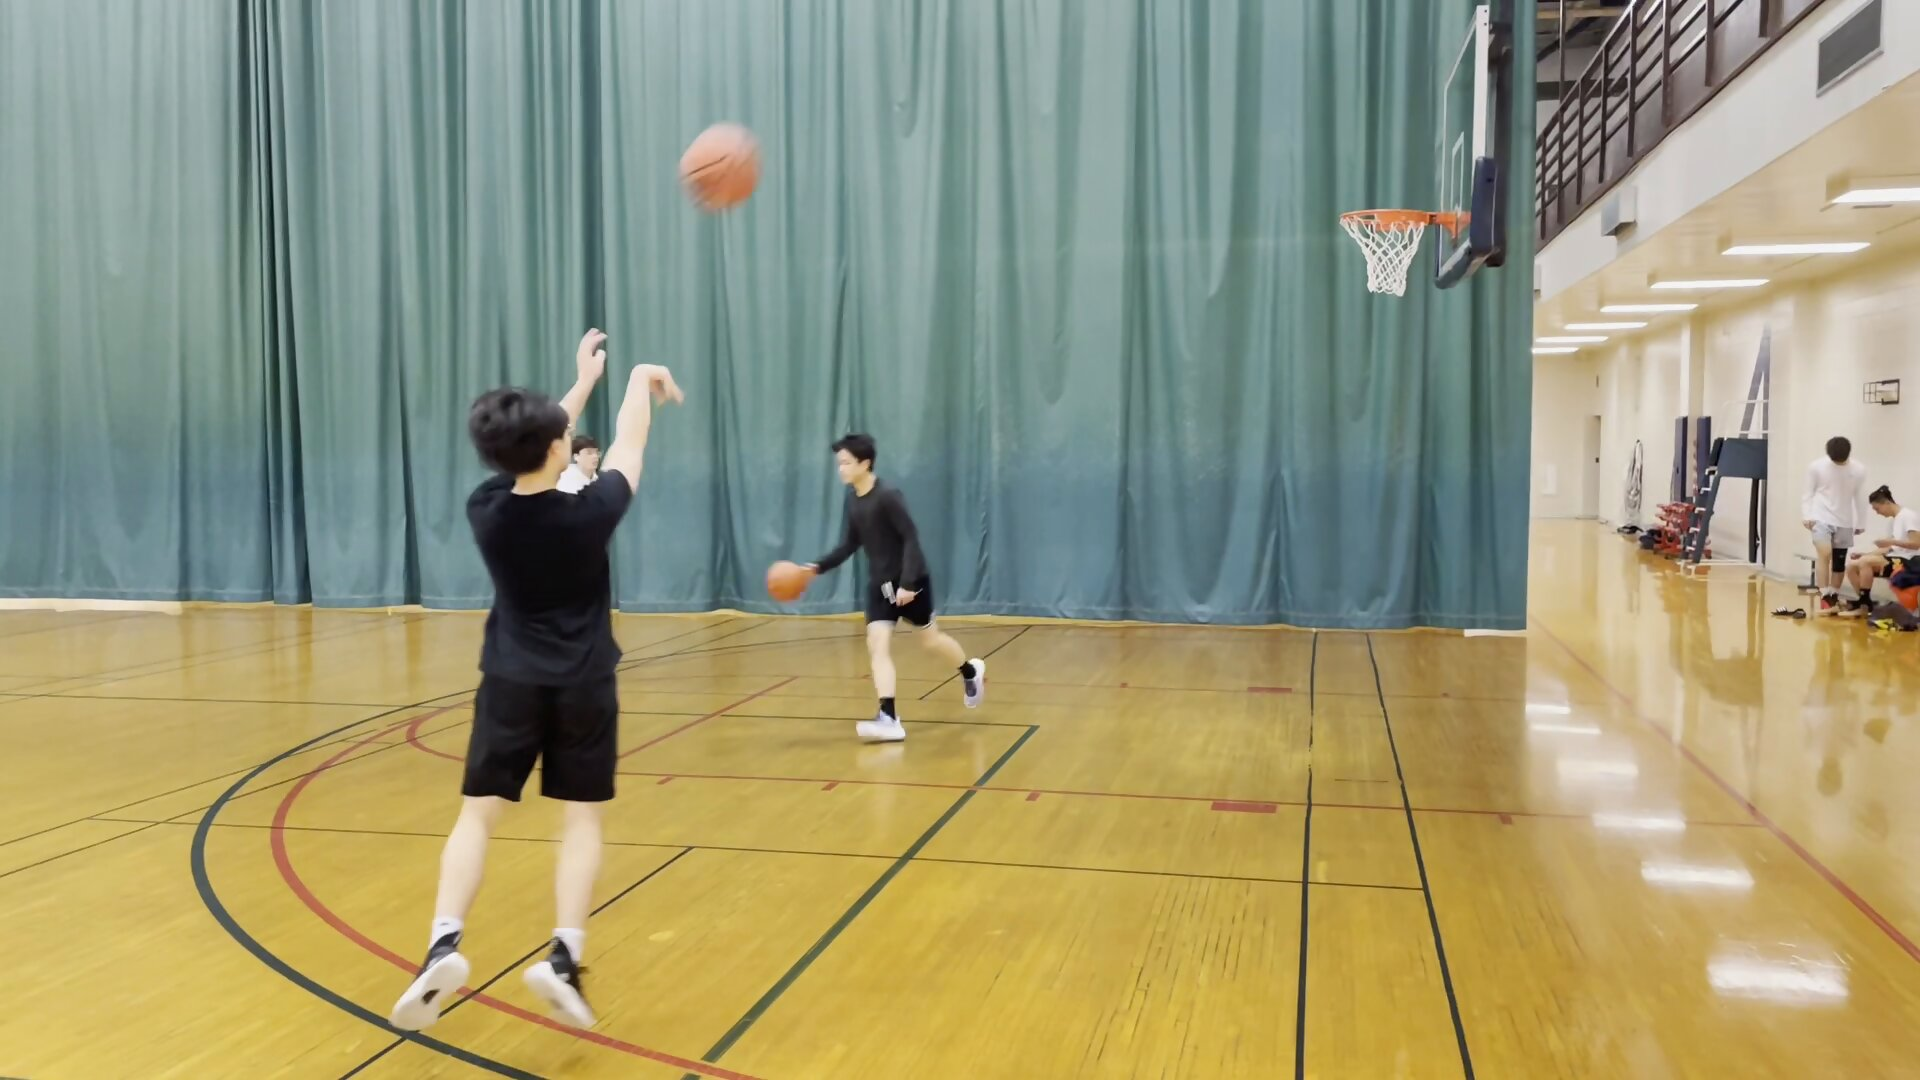ball: (672, 119, 773, 215), (758, 560, 811, 603)
net: (1351, 264, 1419, 300)
player: (400, 327, 678, 1036), (802, 432, 986, 749), (1798, 436, 1864, 617), (1853, 486, 1920, 621)
rim: (1331, 205, 1438, 239)
